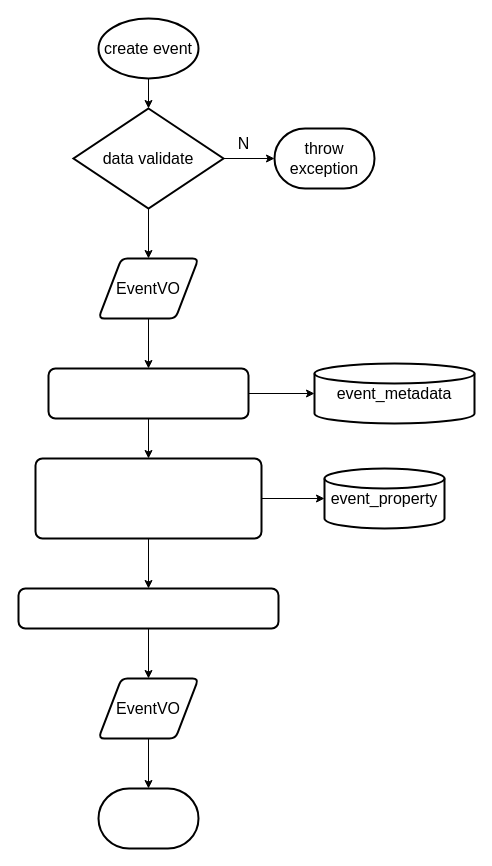
Some shapes in this 492 by 866 pixel diagram are drawn without their labels. Each missing label, with the centre of its shape:
"End" goes at point 148,818.
"提取 EventVO 转化成 EventMeatadataDO" goes at point 148,393.
"提取 EventVO 转化成 EventPropertyDO" goes at point 148,498.
"根据存储的数据拼装VO" goes at point 148,608.
